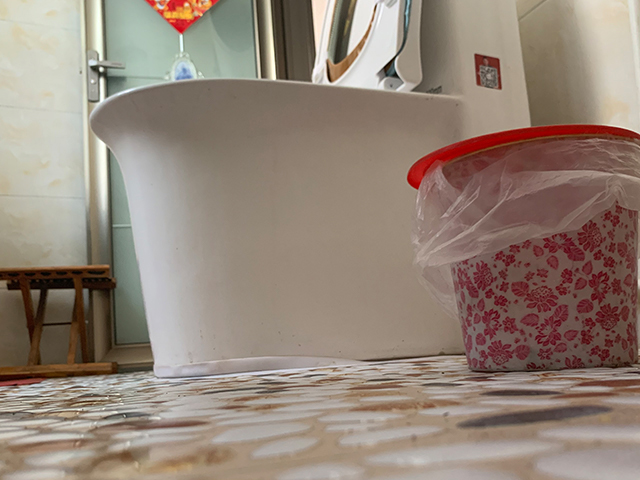closestool: (88, 1, 532, 381)
stool: (1, 263, 120, 379)
trashcan: (406, 122, 640, 373)
